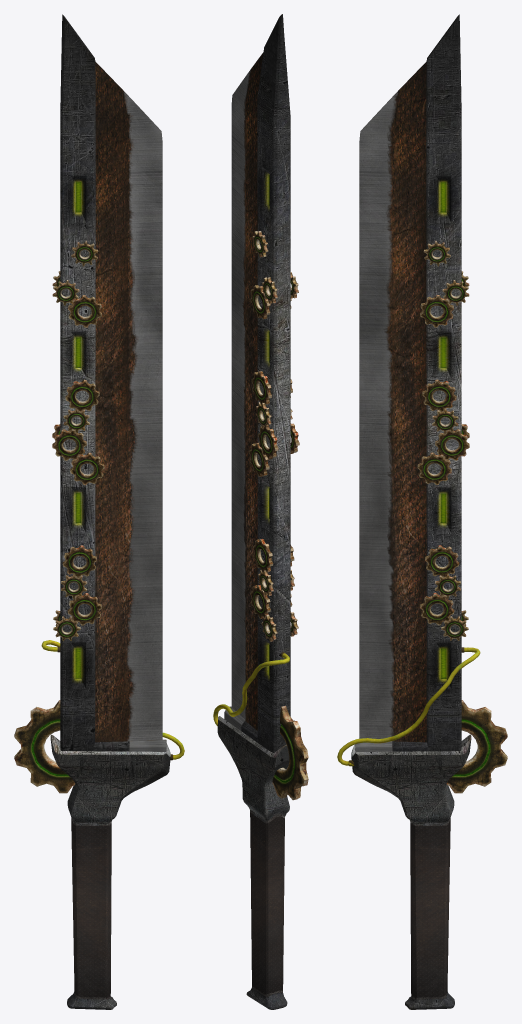
File: SeamPunkSword.fbx
3 views of the same model, side by side, from view 1: azimuth 90°, elevation 25°; view 2: azimuth 210°, elevation 25°; view 3: azimuth 270°, elevation 25° (orthographic).
Visible parts, largest first — view 1: pCube3, pCube2, group56_pasted__group47_pasted__pasted__group44_pasted__past, pasted__pasted__pasted__pasted__pasted__pasted__pCylinder2, group20_pasted__group6_pasted__pasted__pCylinder2, pasted__pCylinder3; view 2: pCube3, pCube2, group56_pasted__group47_pasted__pasted__group44_pasted__past, pasted__pasted__pasted__pasted__pasted__pasted__pCylinder2, group20_pasted__group6_pasted__pasted__pCylinder2, pasted__pCylinder3; view 3: pCube3, pCube2, group56_pasted__group47_pasted__pasted__group44_pasted__past, pasted__pasted__pasted__pasted__pasted__pasted__pCylinder2, group20_pasted__group6_pasted__pasted__pCylinder2, pasted__pCylinder3.
Boxes of the visible parts, <box> form: pCube3: <box>60,14,166,751</box>; pCube2: <box>50,735,170,1009</box>; group56_pasted__group47_pasted__pasted__group44_pasted__past: <box>52,295,104,625</box>; pasted__pasted__pasted__pasted__pasted__pasted__pCylinder2: <box>14,700,75,793</box>; group20_pasted__group6_pasted__pasted__pCylinder2: <box>52,240,98,641</box>; pasted__pCylinder3: <box>41,640,184,760</box>; pCube3: <box>224,14,290,753</box>; pCube2: <box>217,716,289,1009</box>; group56_pasted__group47_pasted__pasted__group44_pasted__past: <box>249,285,299,618</box>; pasted__pasted__pasted__pasted__pasted__pasted__pCylinder2: <box>272,705,308,800</box>; group20_pasted__group6_pasted__pasted__pCylinder2: <box>252,231,298,641</box>; pasted__pCylinder3: <box>213,652,289,725</box>; pCube3: <box>355,14,461,751</box>; pCube2: <box>351,734,471,1009</box>; group56_pasted__group47_pasted__pasted__group44_pasted__past: <box>417,295,469,625</box>; pasted__pasted__pasted__pasted__pasted__pasted__pCylinder2: <box>446,700,507,793</box>; group20_pasted__group6_pasted__pasted__pCylinder2: <box>423,240,469,640</box>; pasted__pCylinder3: <box>337,647,480,766</box>.
Bounding box in the file's own units: 0.4579 × 10.67 × 1.66.
6 materials, 6 textured.
